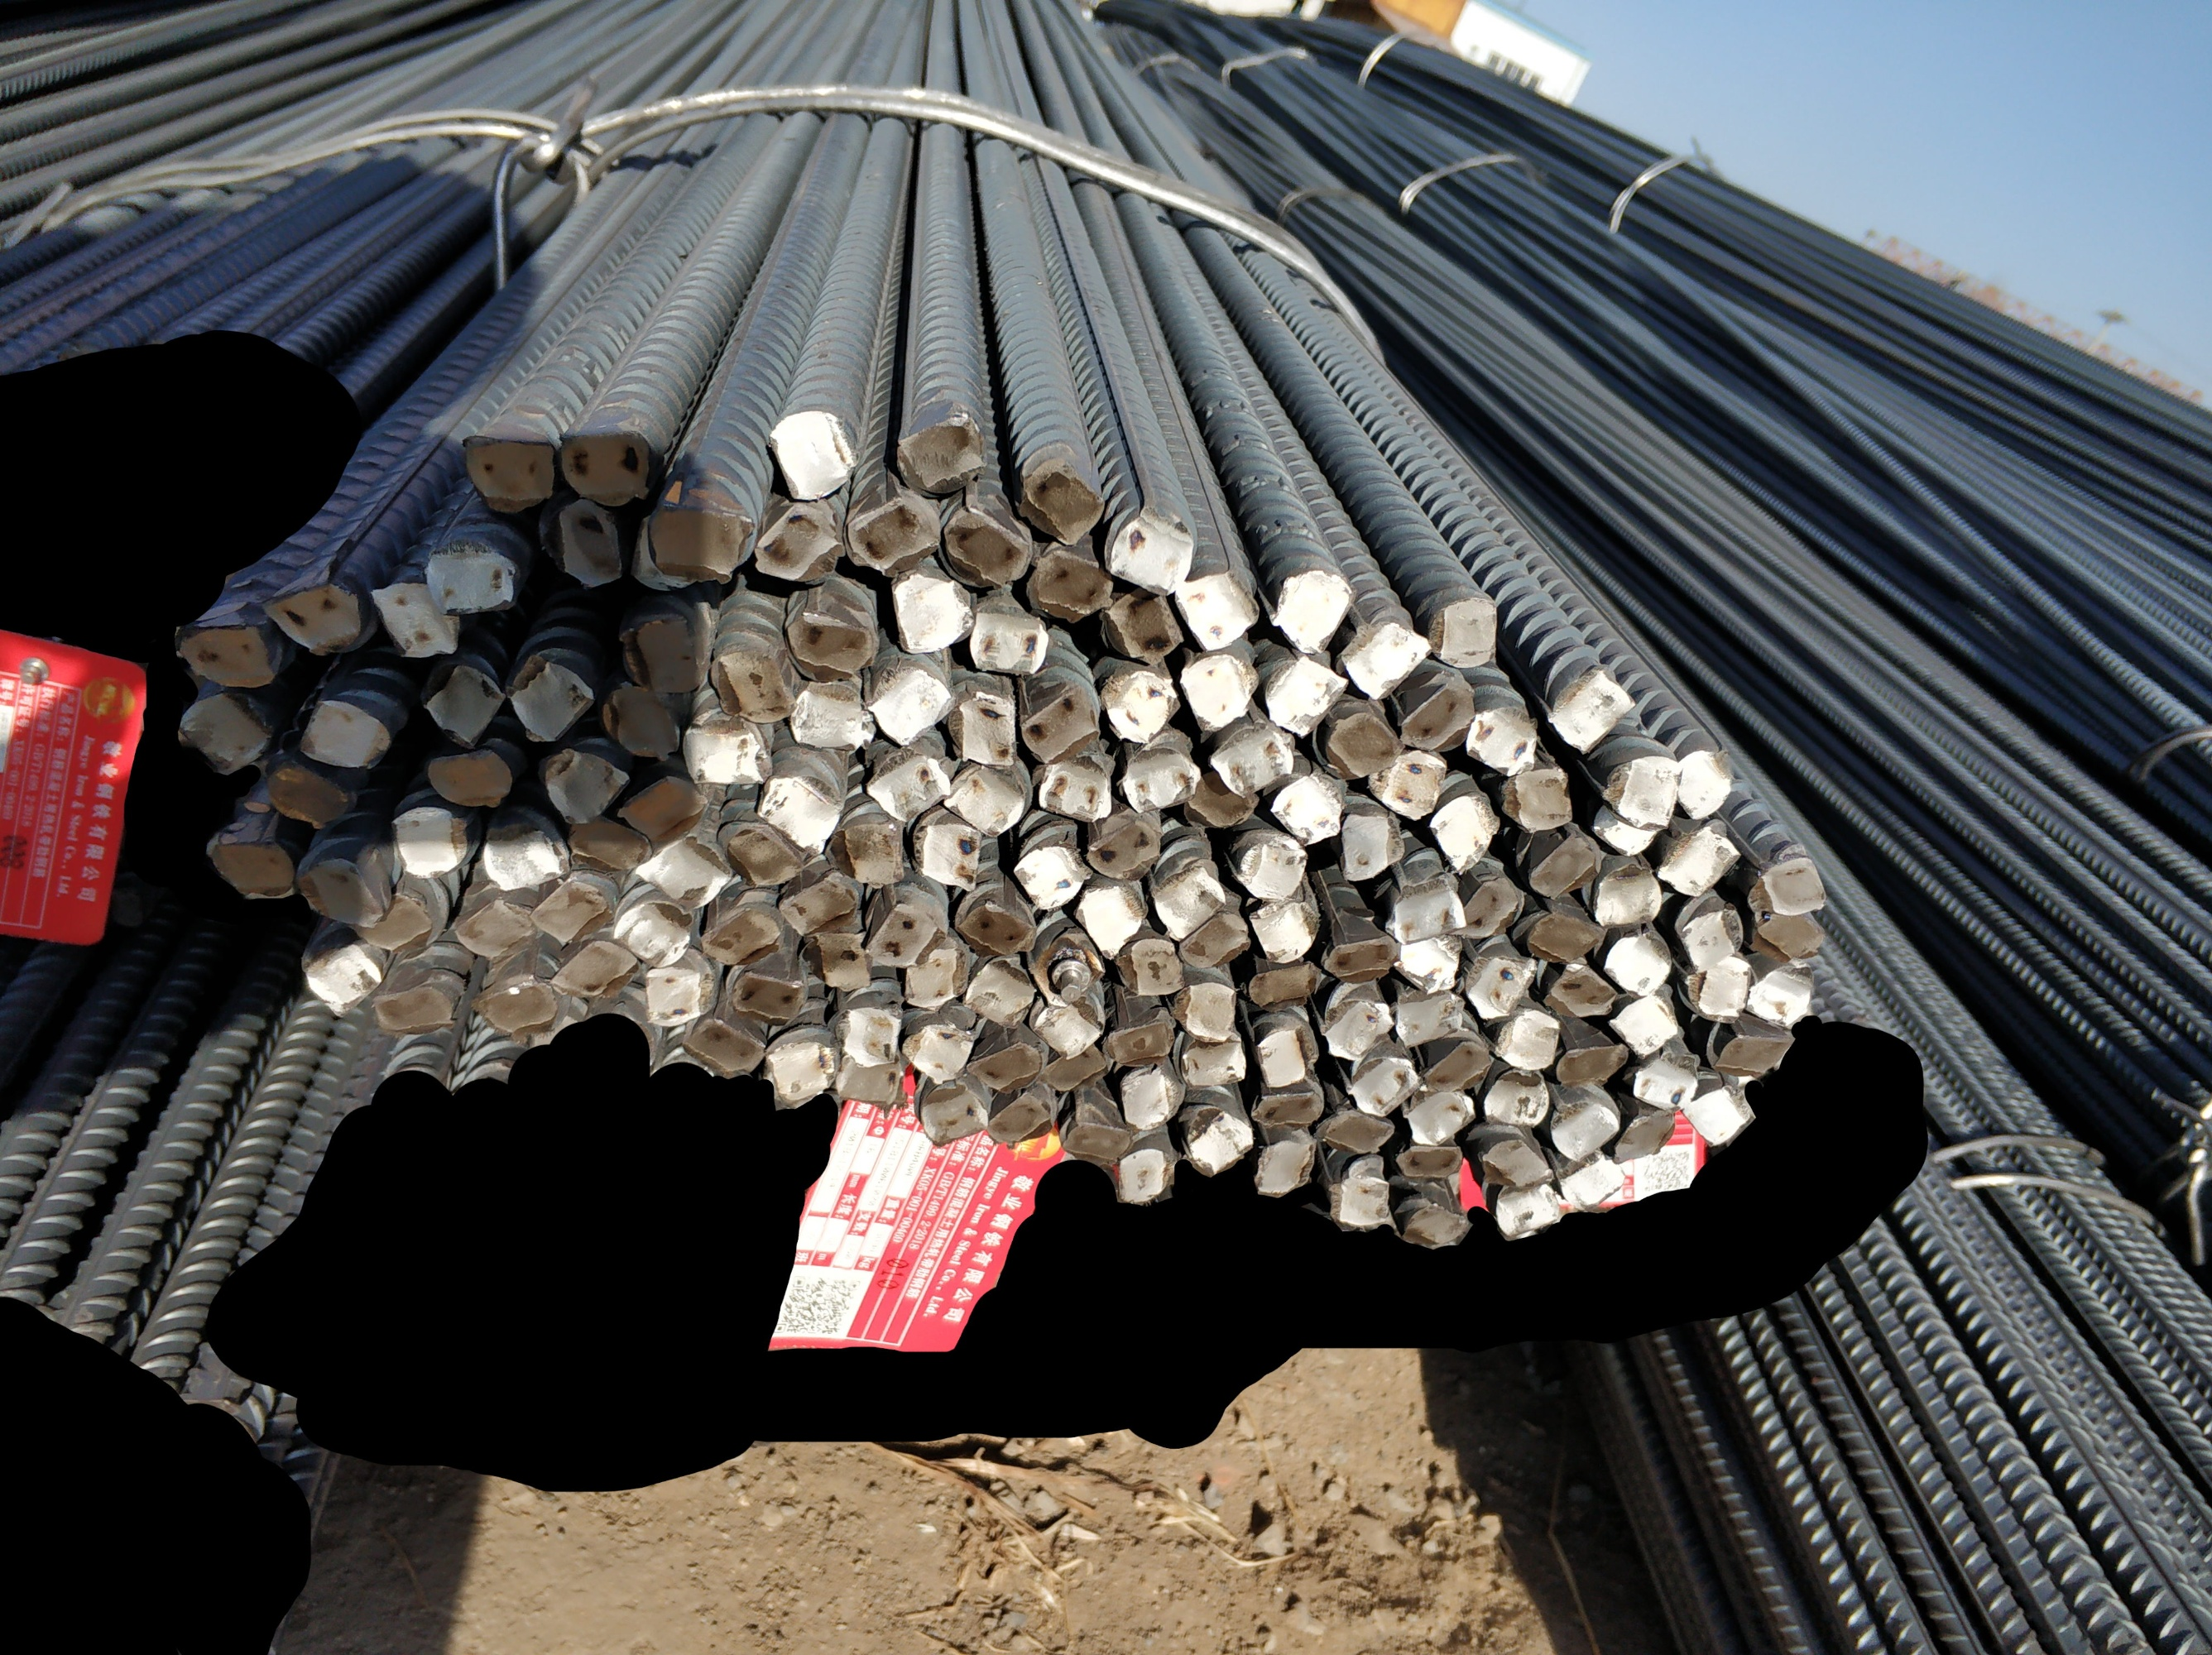rebar: (648, 492, 754, 584), (766, 410, 860, 506), (938, 504, 1034, 596), (862, 661, 956, 751), (1105, 506, 1195, 598), (1546, 664, 1637, 756), (460, 429, 558, 515), (784, 603, 881, 688), (506, 655, 596, 746), (619, 607, 709, 697), (900, 410, 990, 501), (846, 490, 940, 577), (179, 692, 275, 777), (1018, 457, 1107, 548), (1341, 619, 1437, 702), (558, 426, 655, 508), (422, 539, 521, 619), (1268, 568, 1359, 655), (634, 833, 735, 909), (1263, 654, 1352, 741), (754, 502, 844, 588), (756, 774, 844, 859), (261, 581, 361, 655), (1025, 546, 1117, 628), (890, 567, 975, 654), (1102, 664, 1187, 751), (1020, 676, 1102, 767), (370, 581, 464, 659), (615, 772, 711, 847), (1173, 570, 1258, 654), (422, 664, 509, 746), (1098, 584, 1185, 666), (179, 619, 278, 690), (785, 678, 878, 754), (261, 758, 356, 831), (540, 748, 631, 824), (297, 699, 393, 770), (207, 831, 297, 906), (683, 716, 777, 788), (1208, 723, 1301, 794), (968, 602, 1053, 680), (709, 648, 798, 723), (1658, 822, 1741, 899), (942, 761, 1027, 836), (867, 751, 954, 824), (295, 857, 384, 928), (547, 939, 643, 1005), (605, 681, 683, 761), (1602, 756, 1684, 833), (558, 497, 626, 589), (301, 942, 384, 1017), (1152, 862, 1227, 946), (950, 685, 1022, 772), (1180, 654, 1258, 732), (643, 947, 723, 1024), (481, 822, 573, 888), (1425, 596, 1503, 673), (1430, 791, 1503, 873), (721, 822, 806, 892), (426, 744, 514, 810), (389, 805, 469, 878), (1368, 748, 1447, 821), (1322, 709, 1406, 779), (1117, 744, 1204, 810), (1272, 772, 1348, 847), (1176, 1106, 1255, 1179), (912, 815, 983, 895), (1385, 876, 1467, 946), (613, 901, 697, 968), (957, 897, 1041, 965), (349, 890, 434, 956), (777, 874, 862, 940), (1463, 704, 1538, 779), (763, 1038, 839, 1111), (961, 960, 1037, 1033), (1401, 680, 1477, 753), (867, 899, 945, 970), (1074, 881, 1145, 960), (900, 932, 970, 1012), (1496, 765, 1576, 834), (530, 878, 612, 946), (1032, 935, 1109, 1007), (1524, 829, 1600, 901), (1036, 756, 1116, 824), (454, 899, 539, 961), (1465, 947, 1536, 1022), (683, 1015, 770, 1076), (1748, 854, 1828, 920), (1679, 1085, 1758, 1151), (1015, 843, 1089, 913), (1084, 814, 1161, 881), (474, 977, 560, 1038), (798, 928, 876, 994), (1246, 899, 1324, 965), (1343, 1052, 1421, 1118), (825, 822, 905, 887), (1027, 993, 1107, 1057), (1675, 902, 1746, 974), (566, 814, 650, 874), (916, 1078, 989, 1147), (1491, 1003, 1564, 1073), (1237, 833, 1310, 902), (704, 904, 782, 968), (1592, 861, 1663, 930), (1680, 956, 1752, 1026), (1607, 991, 1680, 1059), (730, 967, 806, 1029), (1121, 1057, 1183, 1133), (964, 1036, 1044, 1095), (1341, 810, 1407, 881), (1183, 770, 1260, 831), (836, 1001, 904, 1069), (1394, 932, 1461, 1000), (1746, 963, 1816, 1029), (902, 1020, 973, 1085), (1321, 996, 1392, 1060), (1602, 932, 1673, 996), (1553, 1151, 1628, 1212), (372, 980, 454, 1036), (1750, 911, 1828, 968), (1550, 1095, 1619, 1160), (1672, 746, 1732, 819), (1178, 909, 1253, 968), (1253, 1024, 1319, 1090), (1484, 1064, 1550, 1130), (1326, 1172, 1395, 1234), (1404, 1087, 1475, 1147), (1317, 1102, 1397, 1156), (1477, 1133, 1553, 1189), (1543, 963, 1619, 1019), (1171, 980, 1237, 1045), (1630, 1052, 1699, 1113), (1708, 1027, 1795, 1076), (1246, 956, 1324, 1010), (1392, 989, 1465, 1047), (1255, 1137, 1317, 1203), (1496, 1180, 1562, 1243), (1463, 874, 1524, 942), (1526, 909, 1602, 963), (1425, 1038, 1494, 1097), (836, 1052, 905, 1109), (1611, 1107, 1680, 1165), (987, 1092, 1058, 1147), (1039, 1041, 1107, 1099), (1590, 803, 1658, 861), (1063, 1114, 1133, 1170), (1117, 1146, 1180, 1206), (1176, 1038, 1249, 1090), (1324, 932, 1397, 984), (1126, 935, 1185, 1000), (1105, 1017, 1175, 1069), (1555, 1040, 1630, 1087), (1251, 1087, 1326, 1132), (1404, 1201, 1472, 1250), (1394, 1142, 1465, 1186)
